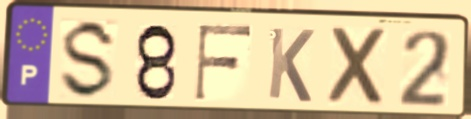2: (397, 28, 455, 108)
8: (133, 21, 178, 102)
F: (191, 23, 255, 103)
K: (265, 25, 317, 106)
S: (55, 17, 120, 103)
X: (326, 24, 391, 109)
